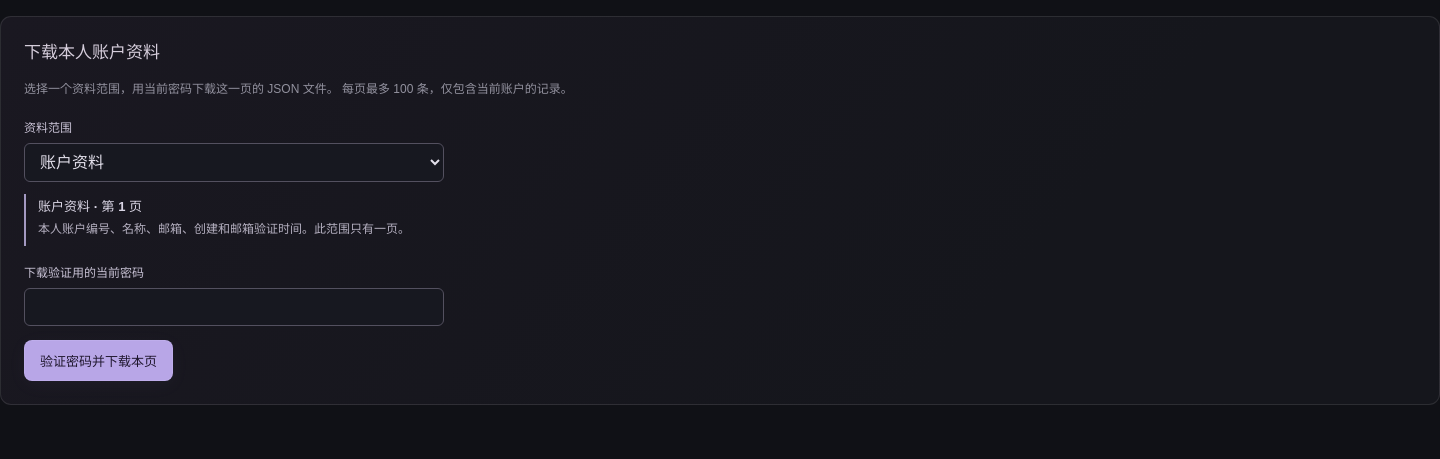
does not download an error response, echo private server text, retry, or retain the password
Type "fixture-current-password" into the password field with id "account-export-password".
click(234, 307); type("fixture-current-password")  # box [24, 288, 444, 326]
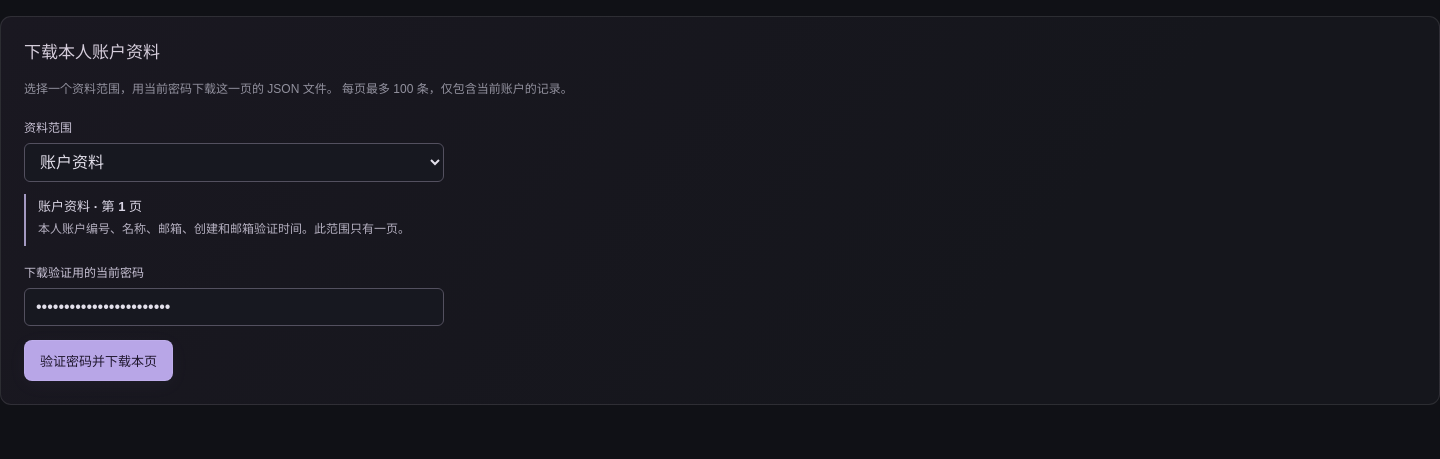
Submit the form, box [24, 118, 664, 381]
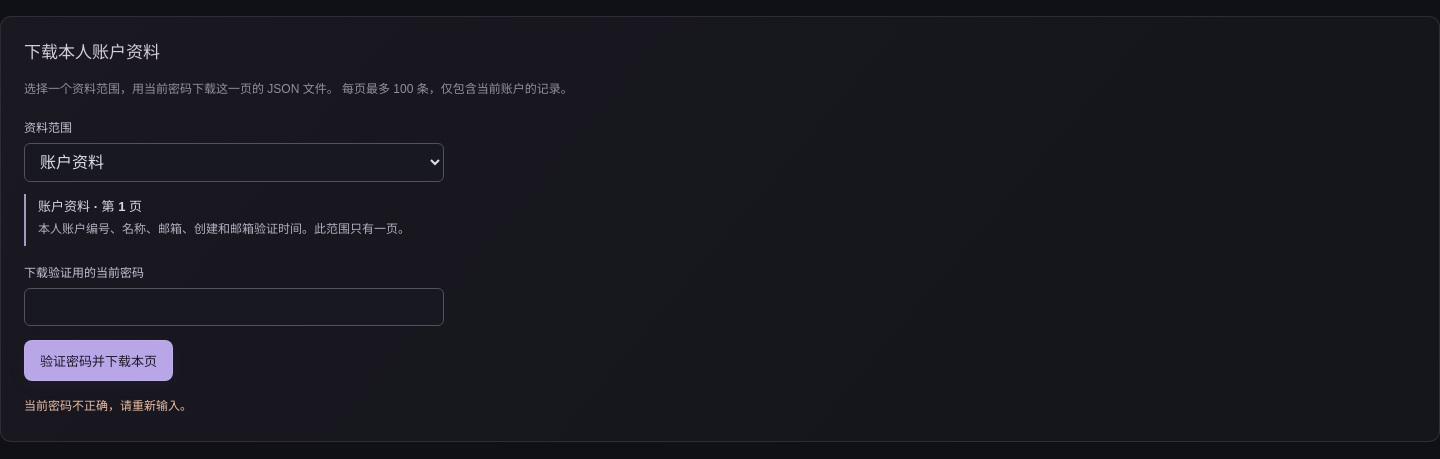
Result: the password field with id "account-export-password" is empty at [24, 288, 444, 326]
Result: the text "当前密码不正确" is shown at [24, 399, 192, 413]
